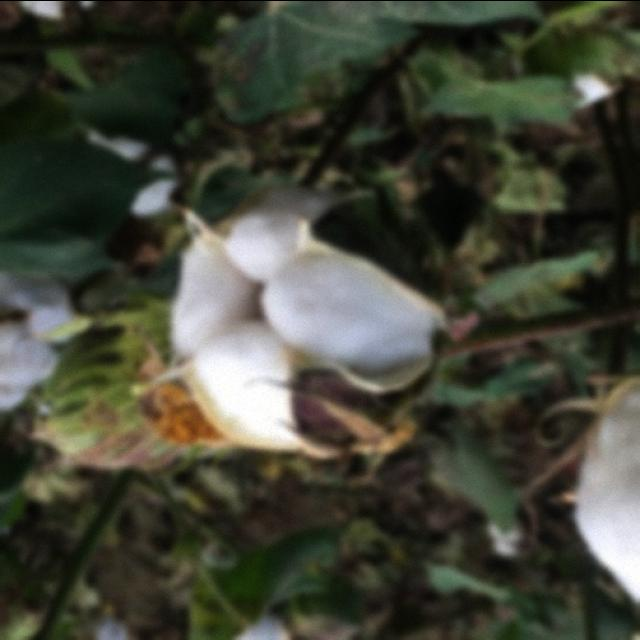Split Cotton Boll: (172, 186, 458, 458)
